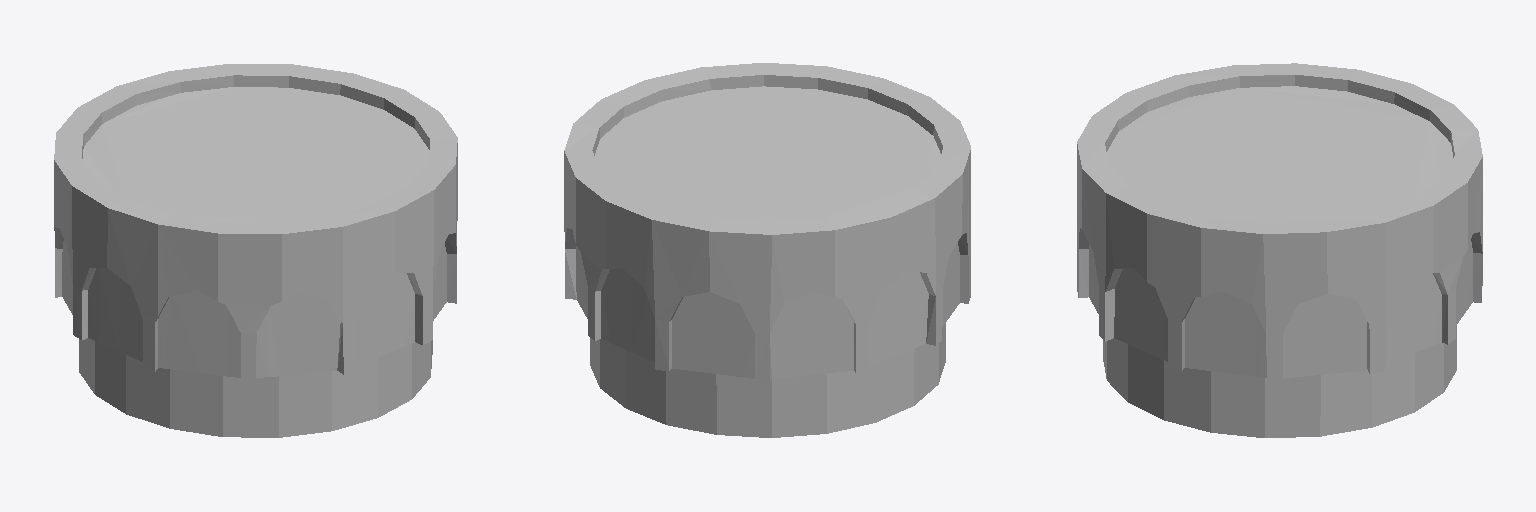
The model's file is table_8.obj.
3 views of the same model, side by side, from view 1: azimuth 30°, elevation 25°; view 2: azimuth 150°, elevation 25°; view 3: azimuth 270°, elevation 25° (orthographic).
Visible parts, largest first — view 1: Mesa1.007_Cylinder.007; view 2: Mesa1.007_Cylinder.007; view 3: Mesa1.007_Cylinder.007.
Boxes of the visible parts, <box> form: Mesa1.007_Cylinder.007: <box>54,64,457,437</box>; Mesa1.007_Cylinder.007: <box>564,63,970,437</box>; Mesa1.007_Cylinder.007: <box>1077,63,1482,437</box>.
Bounding box in the file's own units: 1.2 × 0.6999 × 1.2.